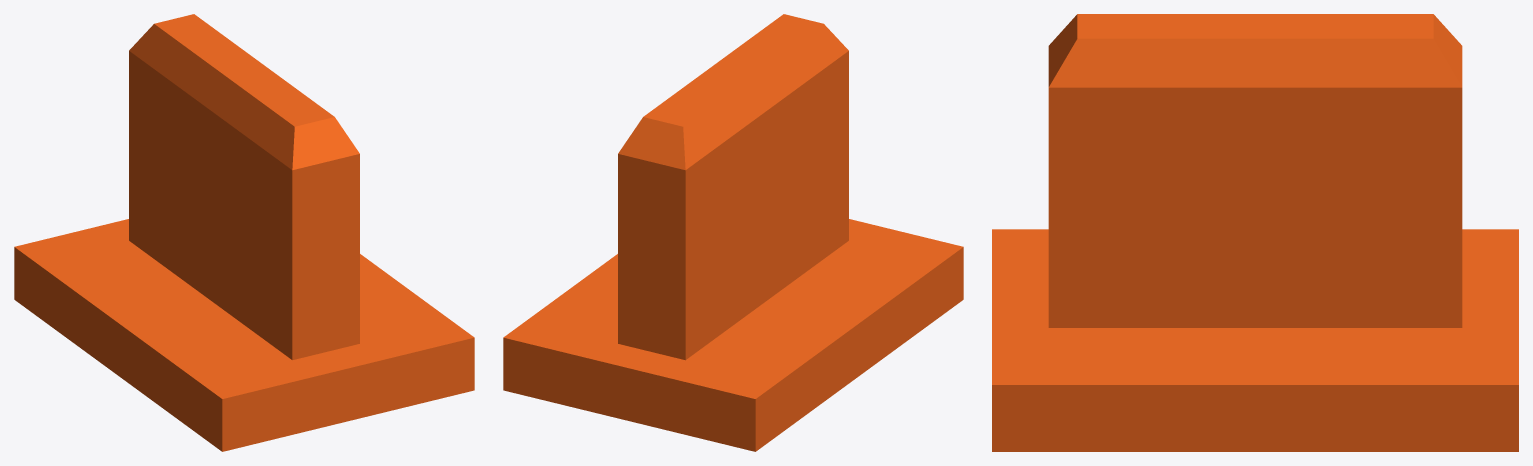
Rendered from WallMount_Hook_01.fbx.
3 renders of one model, left to right at view 1: azimuth 30°, elevation 25°; view 2: azimuth 150°, elevation 25°; view 3: azimuth 270°, elevation 25°, orthographic. The views are drawn at different scales.
Visible parts, largest first — view 1: WallMount_Hook_01; view 2: WallMount_Hook_01; view 3: WallMount_Hook_01.
Part boxes in pixels (left/top/right/bottom): WallMount_Hook_01: left=14, top=14, right=474, bottom=451; WallMount_Hook_01: left=503, top=14, right=963, bottom=451; WallMount_Hook_01: left=992, top=14, right=1518, bottom=451.
Bounding box in the file's own units: 9.8 × 10.19 × 14.
